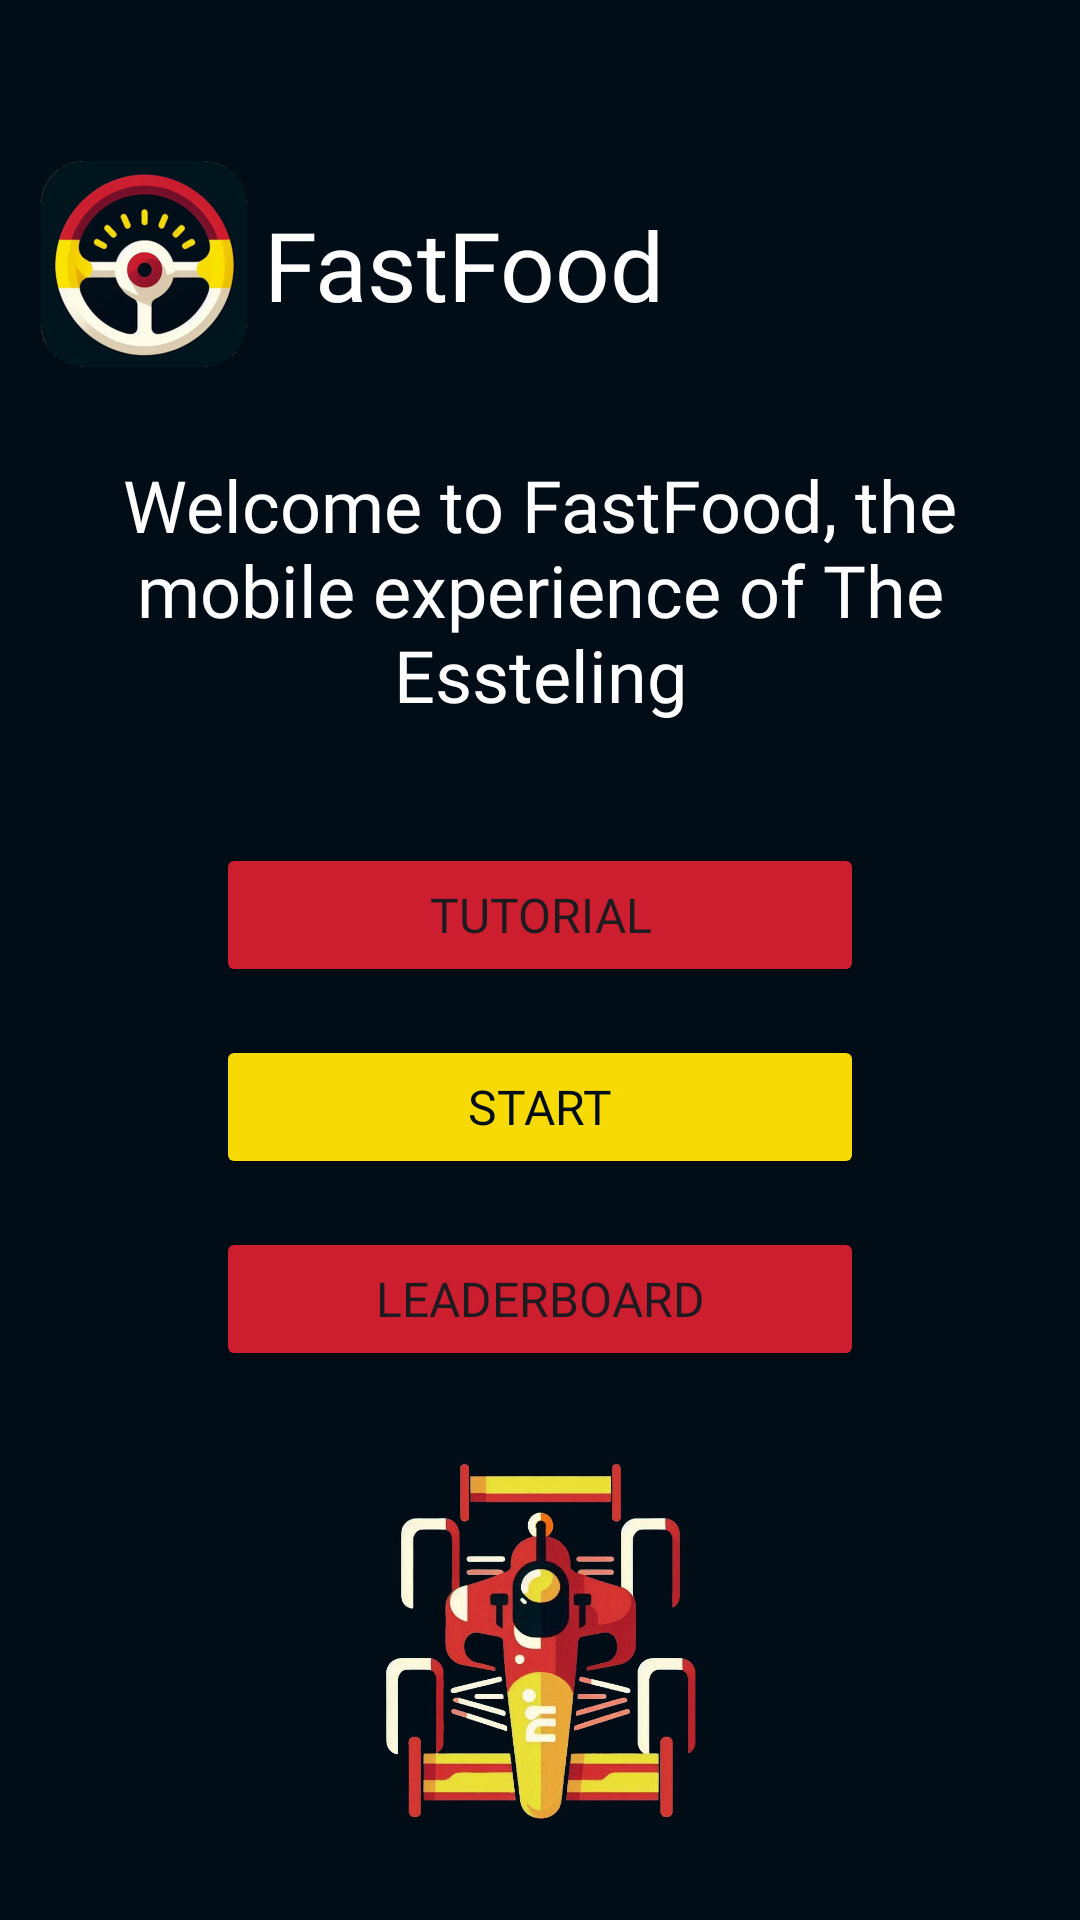

Point at icon controls on the screen. Image size 1080w x 1920h, points as (x=x, y=y).
start car: (x=541, y=1641)
